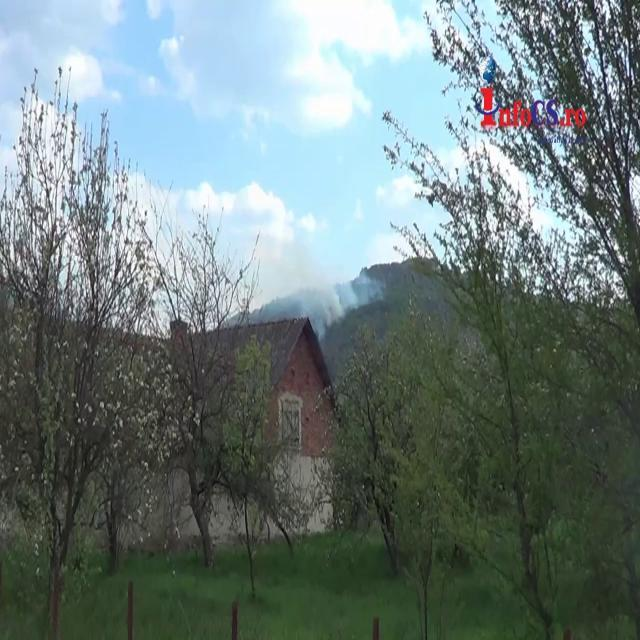Smoke: (296, 264, 362, 326)
